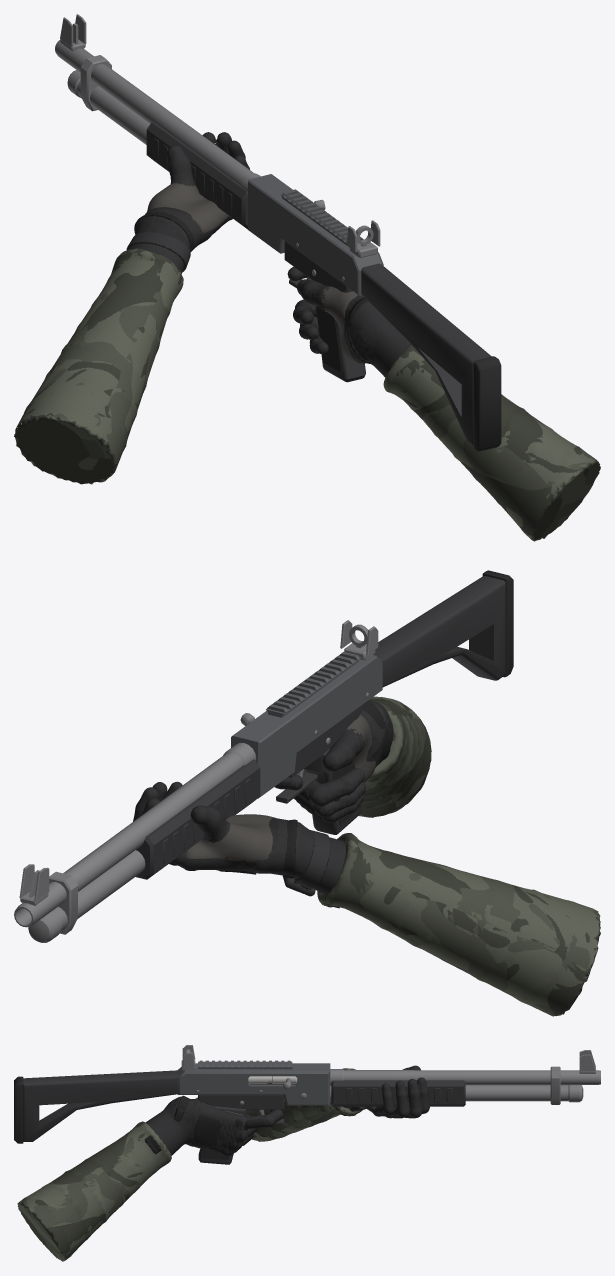
Rendered from shotgun.glb.
The picture shows the model from 3 angles, top to bottom: view 1: azimuth 30°, elevation 25°; view 2: azimuth 150°, elevation 25°; view 3: azimuth 270°, elevation 25°; orthographic projection. The views are drawn at different scales.
Visible parts, largest first — view 1: body, arm_l, arm_r; view 2: body, arm_l, arm_r; view 3: body, arm_r, arm_l, bolt.
Part boxes in pixels (x1,y1,x2,y2): body: (55,14,501,451); arm_l: (14,132,249,484); arm_r: (287,266,600,541); body: (14,570,513,942); arm_l: (133,781,600,1016); arm_r: (275,696,431,823); body: (14,1045,600,1164); arm_r: (17,1095,283,1261); arm_l: (247,1065,429,1141); bolt: (248,1076,297,1089).
Size of the model in its own units: 0.5194 by 0.3172 by 0.932.
14 materials, 2 textured.
